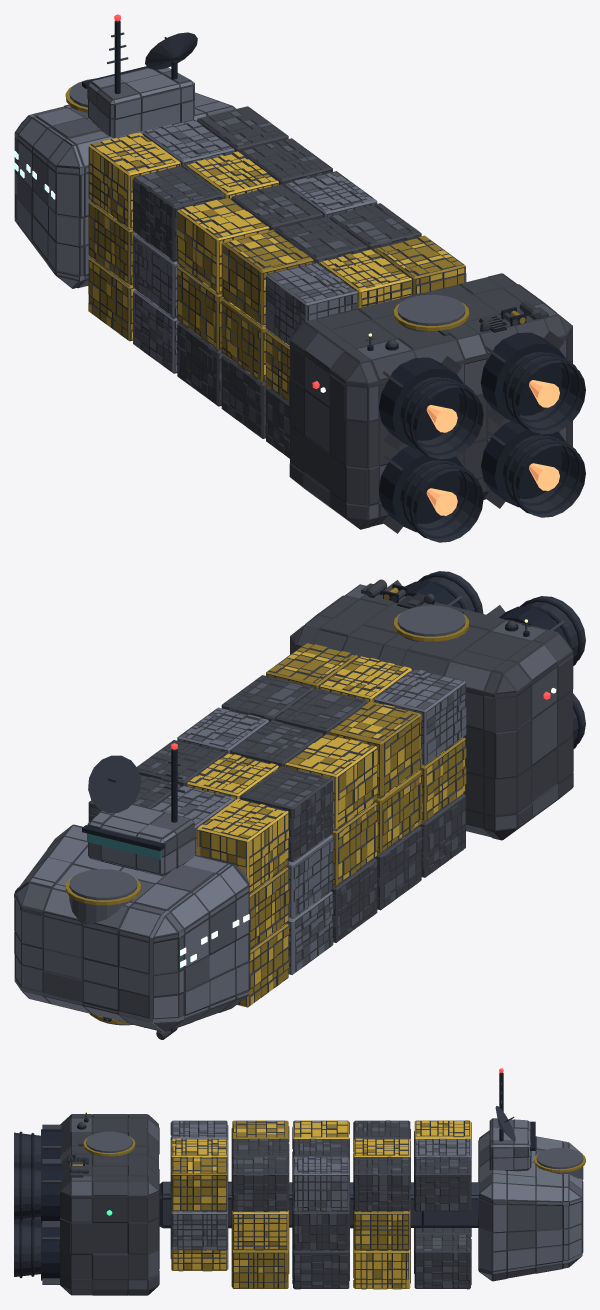
The model's file is leviathan.glb.
The picture shows the model from 3 angles, top to bottom: view 1: azimuth 30°, elevation 25°; view 2: azimuth 150°, elevation 25°; view 3: azimuth 270°, elevation 25°; orthographic projection. The views are drawn at different scales.
Visible parts, largest first — view 1: leviathan_mesh, radar_mesh; view 2: leviathan_mesh, radar_mesh; view 3: leviathan_mesh, radar_mesh.
Part boxes in pixels (x1,y1,x2,y2): leviathan_mesh: (14, 20, 585, 542); radar_mesh: (145, 32, 197, 79); leviathan_mesh: (14, 571, 585, 1039); radar_mesh: (88, 755, 140, 812); leviathan_mesh: (14, 1072, 585, 1295); radar_mesh: (495, 1106, 515, 1141).
Size of the model in its own units: 8.35 by 9.34 by 25.39.
